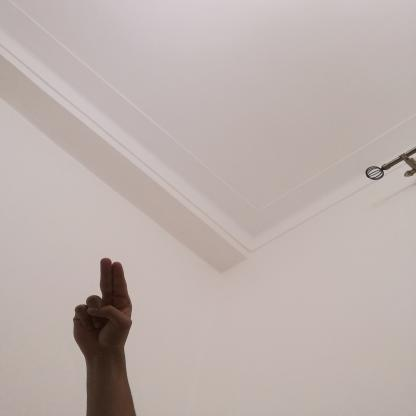TA: (63, 248, 141, 363)
